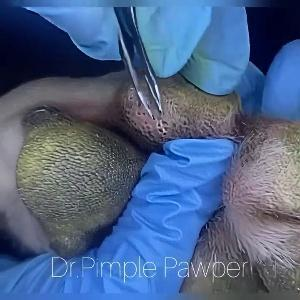keratosis: (12, 107, 142, 254)
